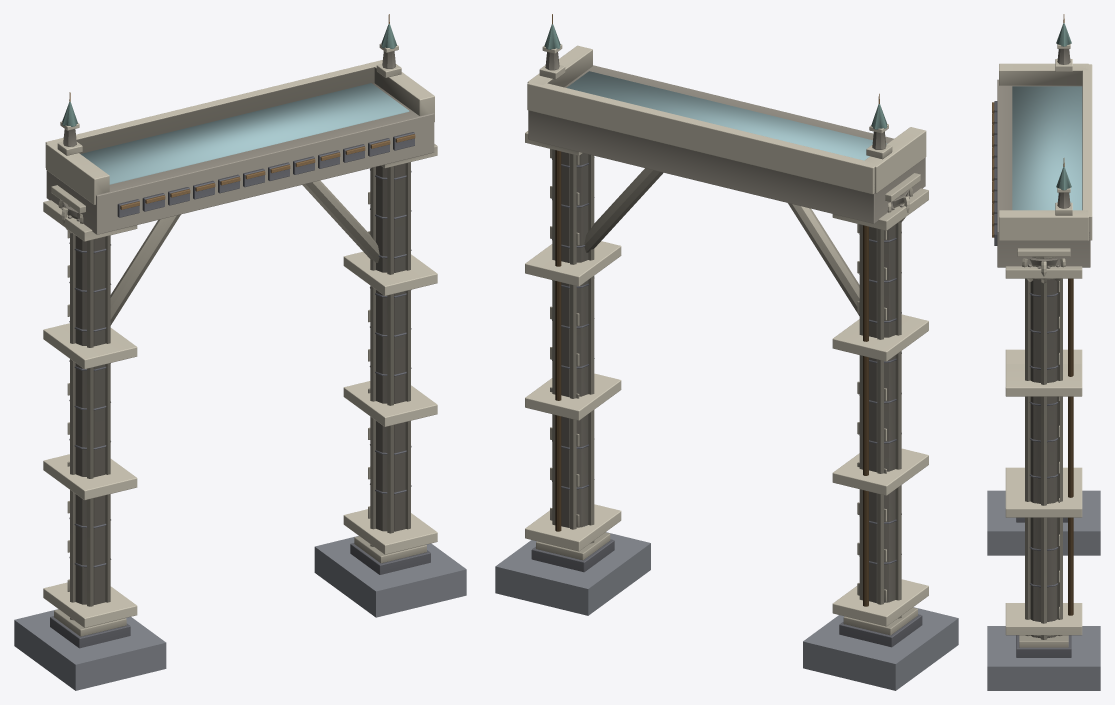
The model's file is aqueduct-source.glb.
3 renders of one model, left to right at view 1: azimuth 30°, elevation 25°; view 2: azimuth 150°, elevation 25°; view 3: azimuth 270°, elevation 25°, orthographic. The views are drawn at different scales.
Visible parts, largest first — view 1: aqueduct-source__pale, aqueduct-source__limestone, aqueduct-source__rock_dark, aqueduct-source__water, aqueduct-source__shadow, aqueduct-source__bronze; view 2: aqueduct-source__pale, aqueduct-source__limestone, aqueduct-source__rock_dark, aqueduct-source__water, aqueduct-source__bronze, aqueduct-source__shadow; view 3: aqueduct-source__pale, aqueduct-source__limestone, aqueduct-source__rock_dark, aqueduct-source__water, aqueduct-source__bronze, aqueduct-source__shadow, aqueduct-source__copper.
Part boxes in pixels (box(x1,y1,x2,y2)): aqueduct-source__pale: box(43, 43, 437, 636); aqueduct-source__limestone: box(46, 51, 434, 604); aqueduct-source__rock_dark: box(14, 536, 466, 690); aqueduct-source__water: box(80, 83, 409, 184); aqueduct-source__shadow: box(50, 132, 430, 648); aqueduct-source__bronze: box(69, 14, 415, 209); aqueduct-source__pale: box(525, 44, 928, 635); aqueduct-source__limestone: box(528, 52, 925, 602); aqueduct-source__rock_dark: box(495, 532, 958, 690); aqueduct-source__water: box(566, 71, 886, 160); aqueduct-source__bronze: box(552, 14, 879, 606); aqueduct-source__shadow: box(531, 157, 922, 647); aqueduct-source__pale: box(999, 44, 1092, 647); aqueduct-source__limestone: box(997, 49, 1090, 638); aqueduct-source__rock_dark: box(987, 490, 1100, 690); aqueduct-source__water: box(1012, 86, 1082, 210); aqueduct-source__bronze: box(992, 14, 1073, 615); aqueduct-source__shadow: box(994, 101, 1071, 657); aqueduct-source__copper: box(1056, 23, 1071, 190).
Size of the model in its own units: 125 by 171 by 34.
